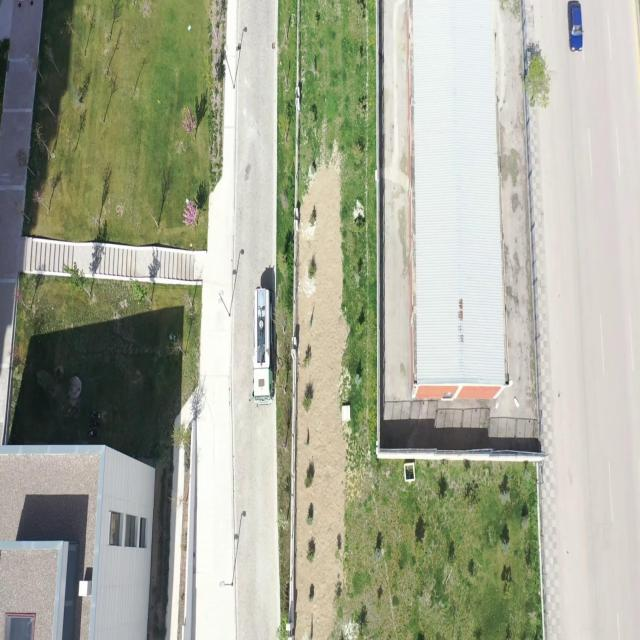p3rson: (88, 428, 98, 438), (91, 411, 100, 418), (91, 421, 100, 428)
